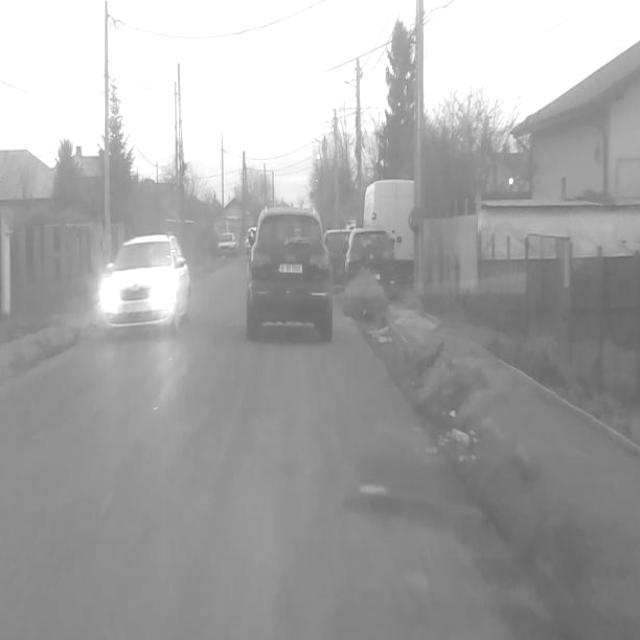licenseplate: (277, 260, 303, 275)
